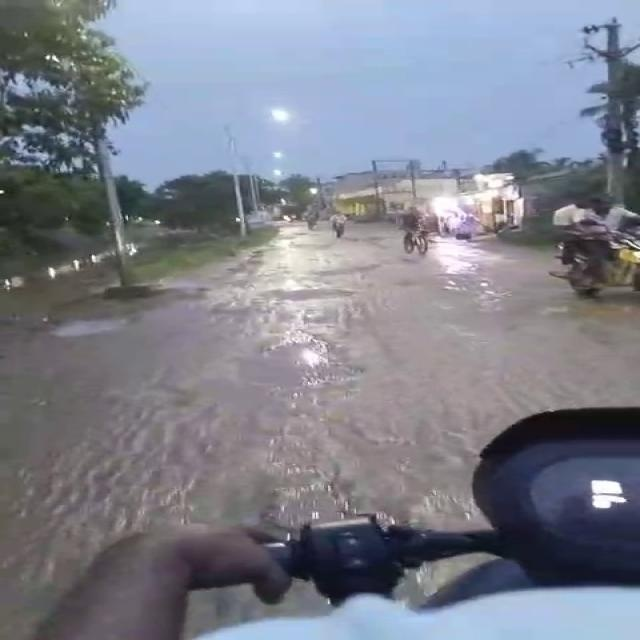pothole: (224, 340, 344, 390), (48, 322, 138, 341)
